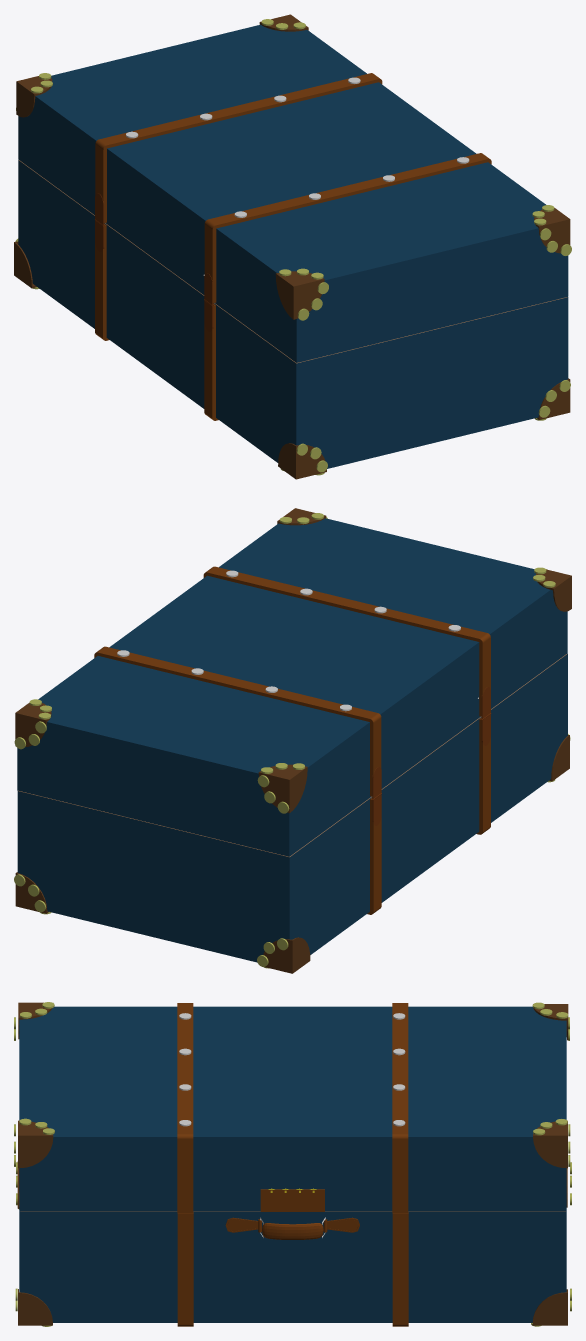
File: girlfriend_suitcase.fbx
3 renders of one model, top to bottom at view 1: azimuth 30°, elevation 25°; view 2: azimuth 150°, elevation 25°; view 3: azimuth 270°, elevation 25°, orthographic.
Visible parts, largest first — view 1: Plane.006, Plane.004, Circle.032, Sphere.002, Circle.023, Sphere.003, Circle.039, Circle.022, Circle.030, Plane.005, Circle.029; view 2: Plane.006, Plane.004, Circle.032, Sphere.002, Sphere.003, Circle.023, Circle.039, Circle.021, Circle.031, Plane.005, Circle.029; view 3: Plane.006, Plane.004, Circle.032, Circle.023, Sphere.002, Sphere.003, Cube, Circle.043, Circle.039, Circle.027, Circle.029, Plane.005.
Boxes of the visible parts, box(x1,y1,x2,y2) form: Plane.006: box(18, 24, 568, 362); Plane.004: box(18, 160, 568, 468); Circle.032: box(95, 73, 491, 303); Sphere.002: box(16, 14, 570, 319); Circle.023: box(95, 224, 218, 420); Sphere.003: box(14, 241, 570, 479); Circle.039: box(31, 19, 554, 279); Circle.022: box(296, 380, 570, 472); Circle.030: box(297, 228, 571, 320); Plane.005: box(19, 160, 567, 363); Circle.029: box(126, 77, 469, 217); Plane.006: box(17, 518, 567, 856); Plane.004: box(17, 653, 567, 962); Circle.032: box(94, 566, 490, 796); Sphere.002: box(15, 508, 571, 813); Sphere.003: box(15, 735, 569, 973); Circle.023: box(367, 718, 490, 914); Circle.039: box(29, 513, 555, 773); Circle.021: box(14, 874, 288, 966); Circle.031: box(14, 721, 289, 813); Plane.005: box(18, 654, 566, 857); Circle.029: box(117, 570, 460, 711); Plane.006: box(19, 1006, 566, 1211); Plane.004: box(19, 1211, 566, 1322); Circle.032: box(177, 1003, 408, 1213); Circle.023: box(177, 1212, 408, 1326); Sphere.002: box(18, 1002, 568, 1168); Sphere.003: box(17, 1161, 567, 1325); Cube: box(260, 1189, 324, 1211); Circle.043: box(262, 1223, 323, 1239); Circle.039: box(19, 1002, 568, 1135); Circle.027: box(225, 1217, 359, 1232); Circle.029: box(179, 1013, 405, 1126); Plane.005: box(20, 1211, 565, 1211).
Size of the model in its own units: 123 by 78.94 by 205.
